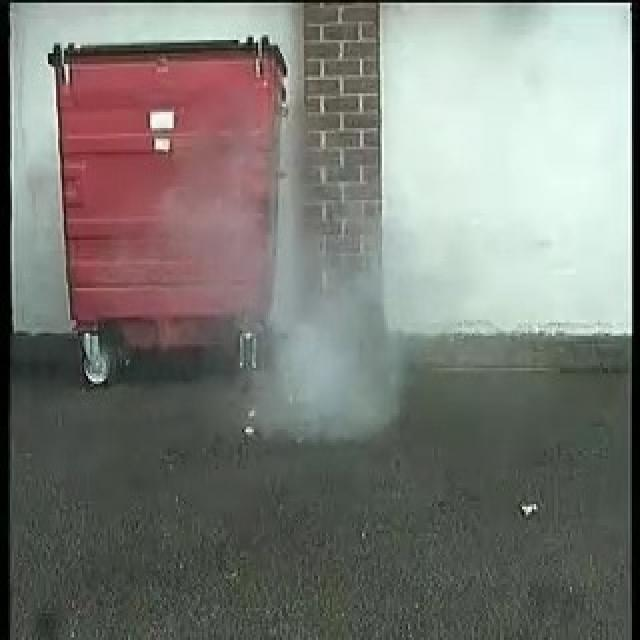smoke: (267, 234, 430, 426)
